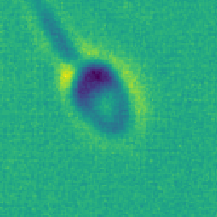normal: (14, 1, 83, 67)
